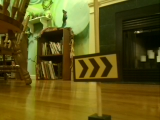right: (73, 54, 121, 80)
